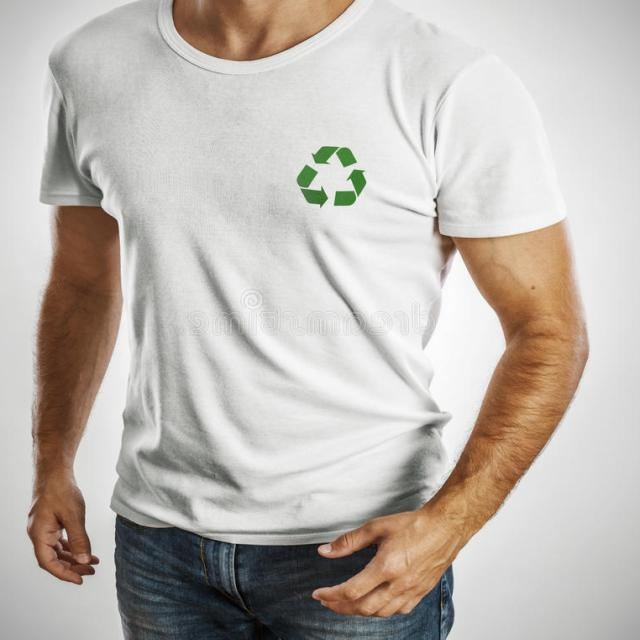clothes: (109, 20, 472, 518)
